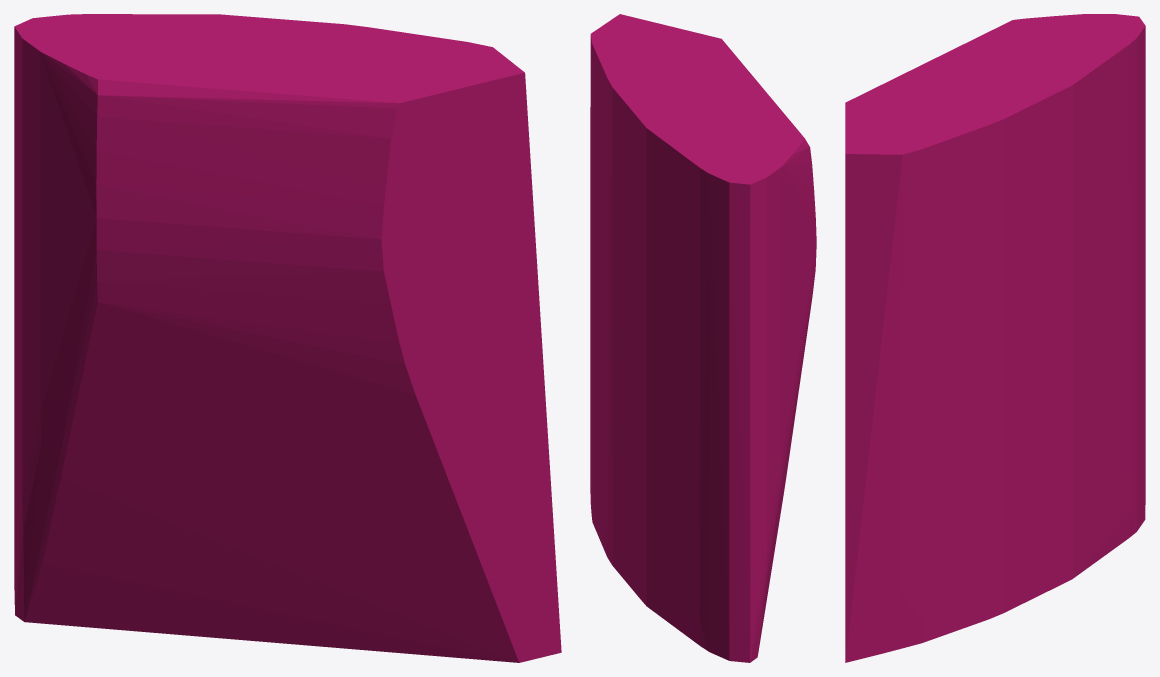
The model's file is right-shoulder-pitch-0_part_80.obj.
3 renders of one model, left to right at view 1: azimuth 30°, elevation 25°; view 2: azimuth 150°, elevation 25°; view 3: azimuth 270°, elevation 25°, orthographic. The views are drawn at different scales.
Size of the model in its own units: 0.0207 by 0.0308 by 0.0169.
